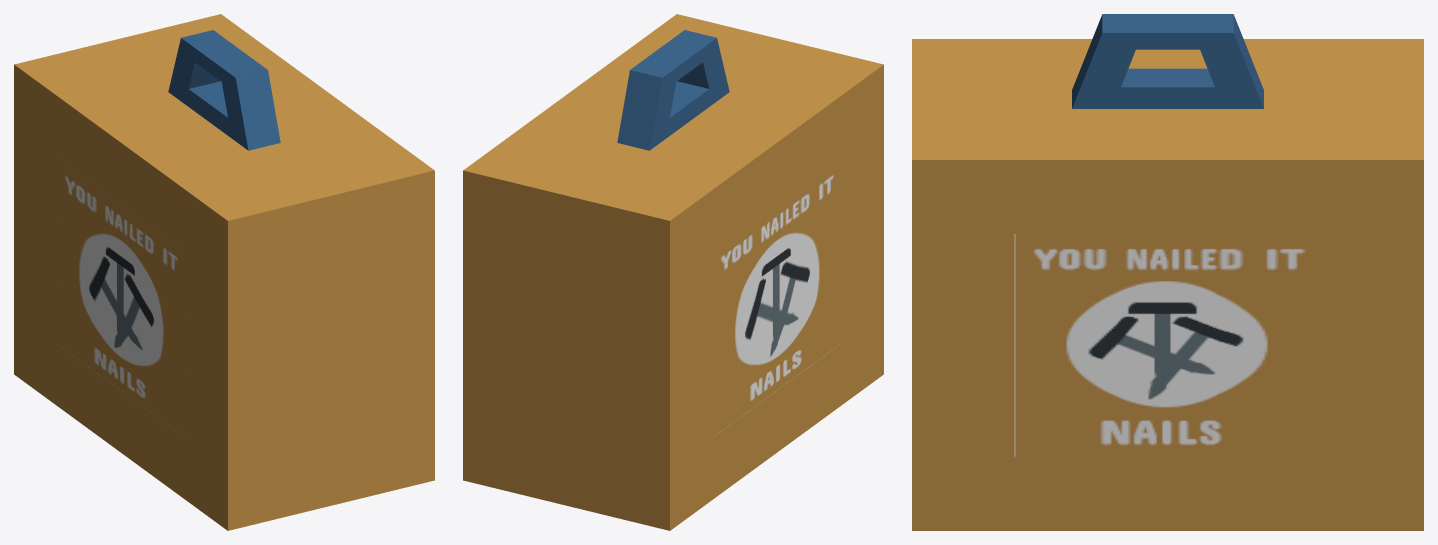
File: GGJ_Nail_box.fbx
3 views of the same model, side by side, from view 1: azimuth 30°, elevation 25°; view 2: azimuth 150°, elevation 25°; view 3: azimuth 270°, elevation 25° (orthographic). The views are drawn at different scales.
Visible parts, largest first — view 1: Cube.006; view 2: Cube.006; view 3: Cube.006.
Boxes of the visible parts, x1,y1,x2,y2 form: Cube.006: (14, 14, 434, 530); Cube.006: (463, 14, 883, 530); Cube.006: (912, 14, 1423, 530).
Bounding box in the file's own units: 11.18 × 19.28 × 20.
Materials: 1 (1 with a texture image).
